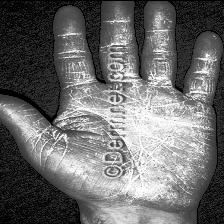Toxin: (140, 120, 186, 142)
